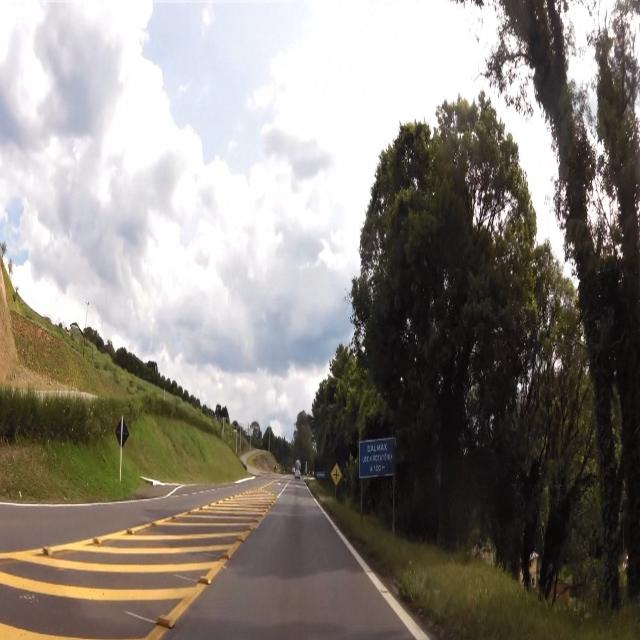LOC-6: (360, 438, 396, 480)
